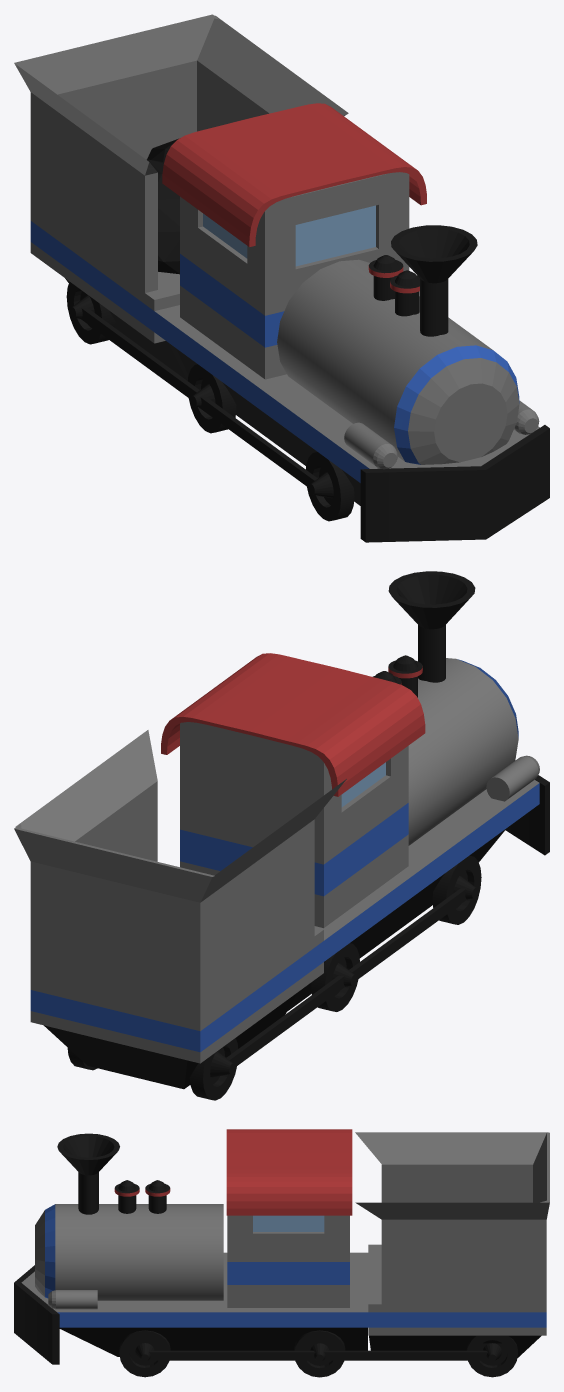
Rendered from Train.glb.
3 views of the same model, one above another, from view 1: azimuth 30°, elevation 25°; view 2: azimuth 150°, elevation 25°; view 3: azimuth 270°, elevation 25° (orthographic). The views are drawn at different scales.
Parts seen in each view (by area): view 1: GeoSphere002; view 2: GeoSphere002; view 3: GeoSphere002.
Boxes of the visible parts, <box> form: GeoSphere002: <box>14,14,549,542</box>; GeoSphere002: <box>14,571,549,1100</box>; GeoSphere002: <box>14,1129,549,1377</box>.
Size of the model in its own units: 29.4 by 40.23 by 94.47.
